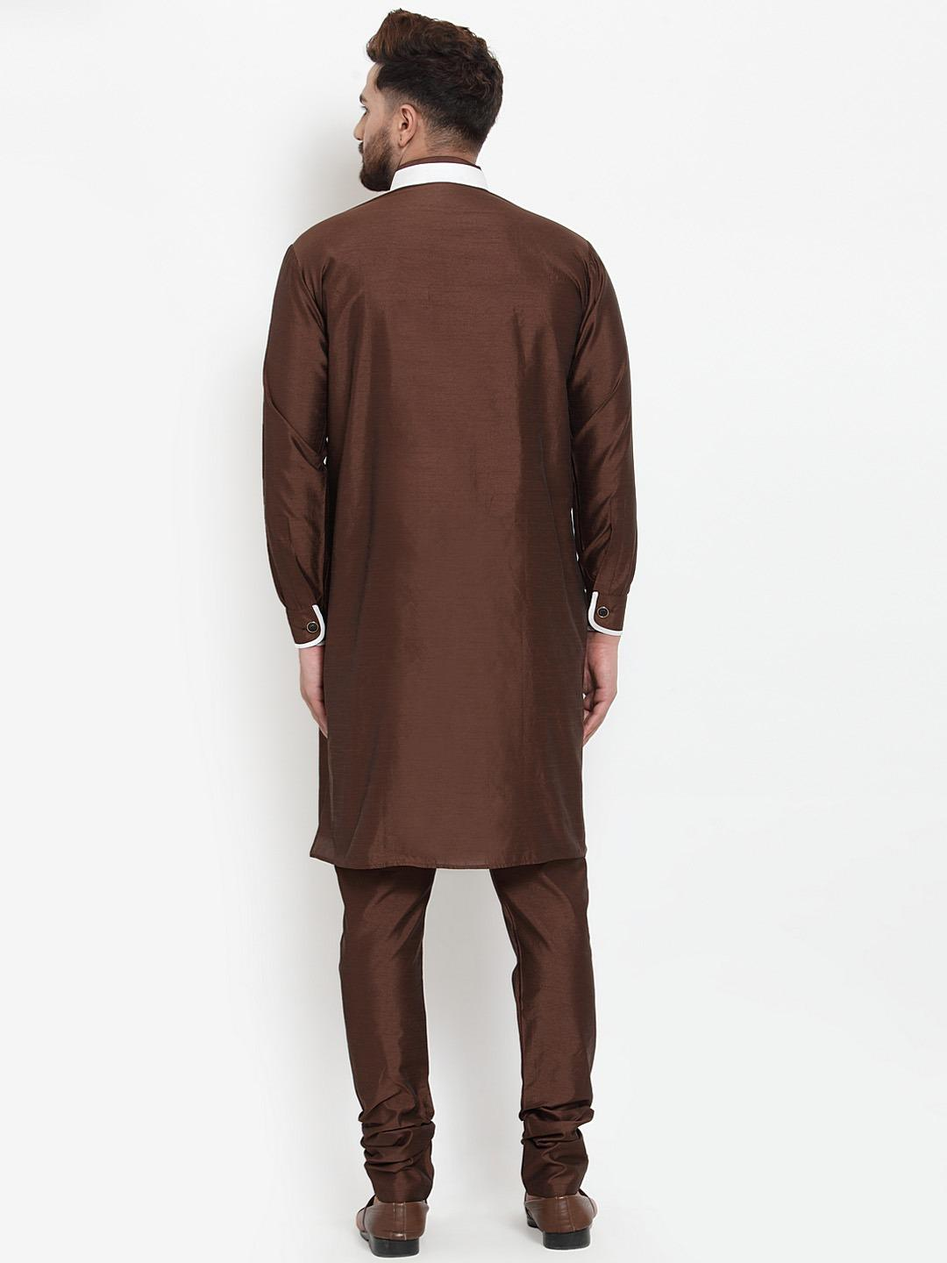Plain Sherwani: (257, 160, 641, 876)
